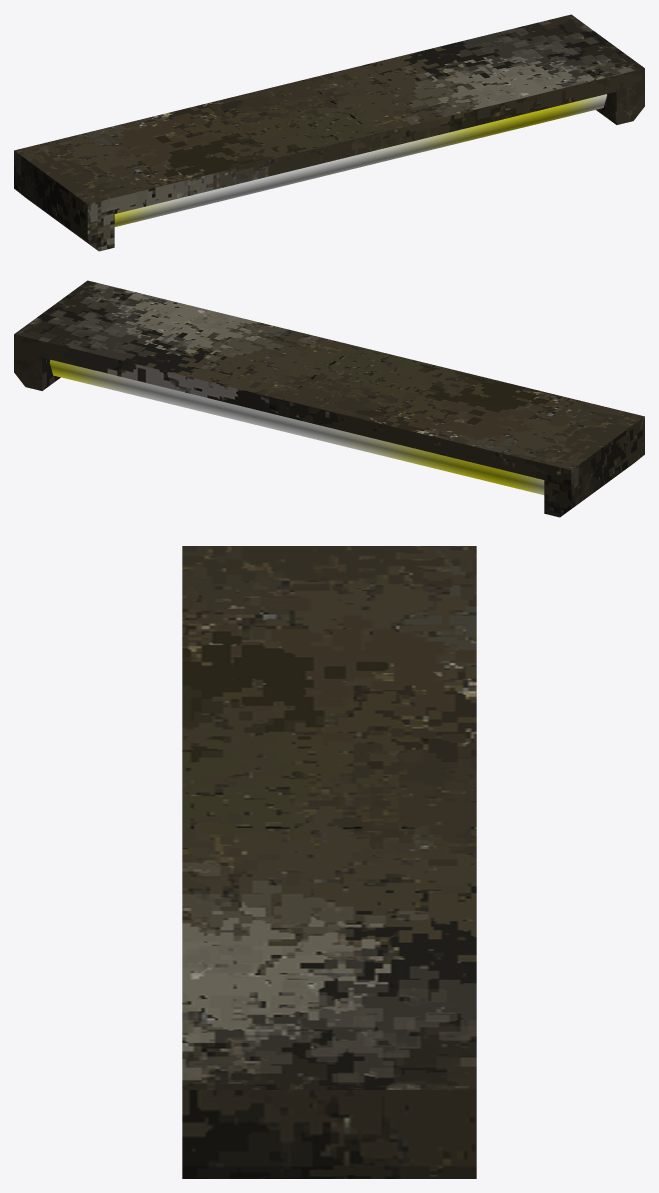
Rendered from Lamp.FBX.
3 renders of one model, top to bottom at view 1: azimuth 30°, elevation 25°; view 2: azimuth 150°, elevation 25°; view 3: azimuth 270°, elevation 25°, orthographic. The views are drawn at different scales.
Parts seen in each view (by area): view 1: lamp1; view 2: lamp1; view 3: lamp1.
Part boxes in pixels (<box>): lamp1: <box>14,14,644,251</box>; lamp1: <box>14,280,644,517</box>; lamp1: <box>182,546,476,1178</box>.
Size of the model in its own units: 35 by 3 by 8.
Materials: 1 (1 with a texture image).
